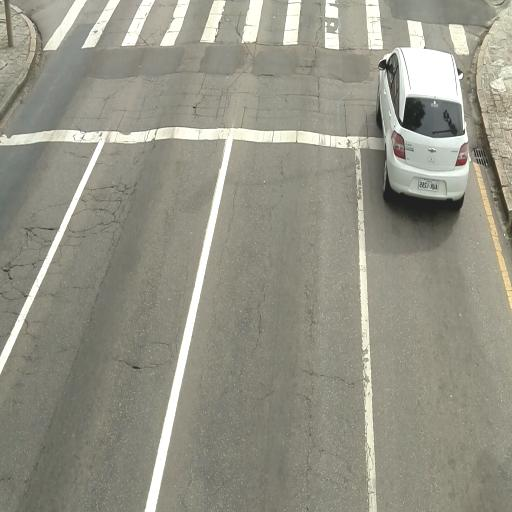car: (376, 46, 470, 210)
